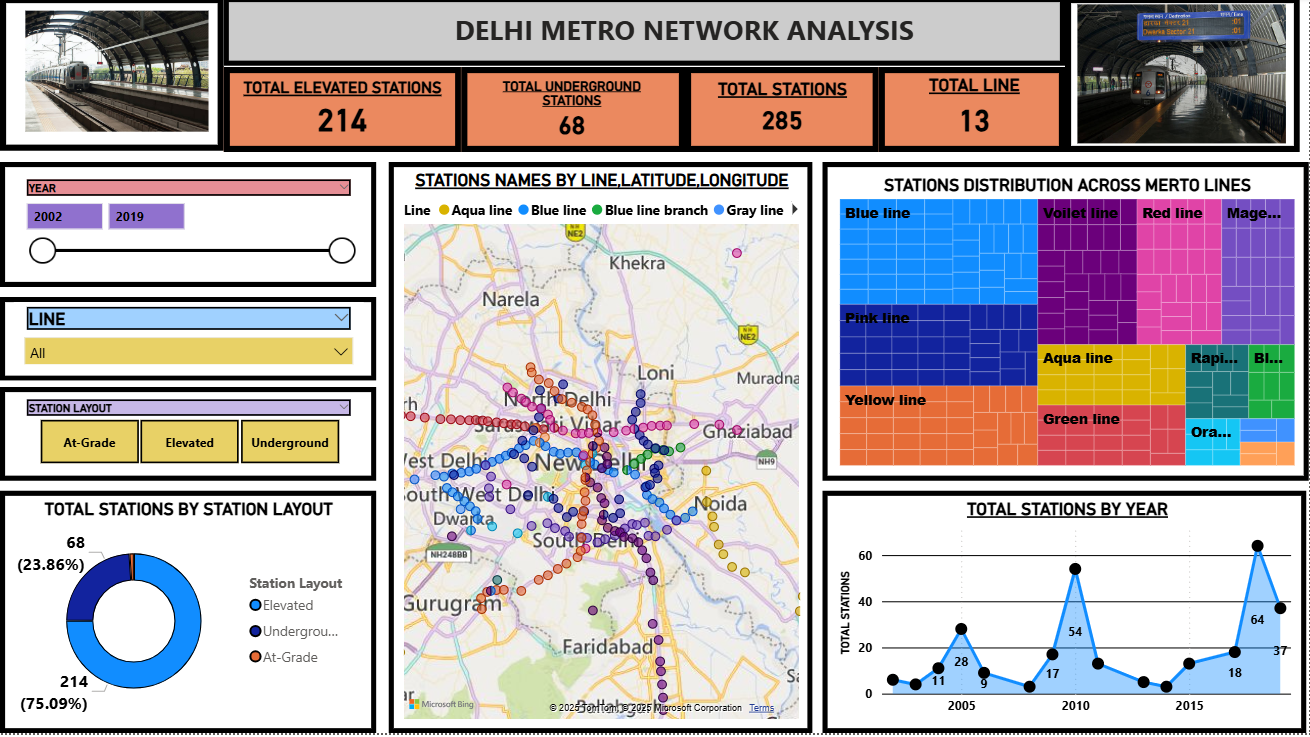

What the dashboard file says about the page in this screenshot:
{"tool":"powerbi","page":{"name":"DELHI_METRO_NETWORK_DASHBOARD","canvas":[1280,720],"ordinal":0},"visuals":[{"type":"shape","box":[380.3,161.4,414.5,558.8],"z":0},{"type":"shape","box":[0,483,368.1,237.2],"z":1000},{"type":"shape","box":[804.6,483,473.2,237.2],"z":2000},{"type":"shape","box":[804.6,161.4,475.7,311.8],"z":3000},{"type":"treemap","title":"STATIONS DISTRIBUTION ACROSS MERTO LINES","fields":{"Values":["delhi_metro delhi_metro.TOTAL STATION"],"Group":["delhi_metro delhi_metro.Line"],"Details":["delhi_metro delhi_metro.Station Name"]},"box":[816.9,173.6,454.9,289.8],"z":4000},{"type":"donutChart","title":"TOTAL STATIONS BY STATION LAYOUT","fields":{"Category":["delhi_metro delhi_metro.Station Layout"],"Y":["delhi_metro delhi_metro.TOTAL STATION"]},"box":[13.5,490.4,342.4,221.3],"z":5000},{"type":"stackedAreaChart","title":"TOTAL STATIONS BY YEAR","fields":{"Category":["delhi_metro delhi_metro.OPENING DATE.Variation.Date Hierarchy.Year"],"Y":["delhi_metro delhi_metro.TOTAL STATION"]},"box":[816.9,490.4,454.9,221.3],"z":6000},{"type":"shape","box":[0,161.4,368.1,122.3],"z":7000},{"type":"slicer","fields":{"Values":["delhi_metro delhi_metro.OPENING DATE.Variation.Date Hierarchy.Year"]},"box":[13.5,173.6,342.4,101.5],"z":8000},{"type":"shape","box":[0,381.5,368.1,91.7],"z":9000},{"type":"shape","box":[0,293.5,368.1,81.9],"z":10000},{"type":"slicer","fields":{"Values":["delhi_metro delhi_metro.Station Layout"]},"box":[13.5,388.9,342.4,74.6],"z":11000},{"type":"slicer","fields":{"Values":["delhi_metro delhi_metro.Line"]},"box":[13.5,298.4,342.4,61.1],"z":12000},{"type":"shape","box":[0,0,218.9,150.4],"z":13000},{"type":"shape","box":[218.9,68.5,232.3,83.2],"z":14000},{"type":"shape","box":[451.2,68.5,218.9,83.2],"z":15000},{"type":"shape","box":[670.1,68.5,189.5,83.2],"z":16000},{"type":"shape","box":[859.7,68.5,182.2,83.2],"z":17000},{"type":"shape","box":[1041.9,0,229.9,151.6],"z":18000},{"type":"shape","box":[218.9,0,823,67.3],"z":19000},{"type":"textbox","box":[368.1,8.6,602.9,51.4],"z":20000},{"type":"image","box":[1049.2,0,214,150.4],"z":21000},{"type":"image","box":[0,8.6,228.7,128.4],"z":22000},{"type":"card","title":"TOTAL STATIONS","fields":{"Values":["delhi_metro delhi_metro.TOTAL STATION"]},"box":[688.5,79.5,154.1,61.1],"z":23000},{"type":"card","title":"TOTAL ELEVATED STATIONS","fields":{"Values":["delhi_metro delhi_metro.TOTAL ELEVATED"]},"box":[229.9,79.5,210.3,61.1],"z":24000},{"type":"card","title":"TOTAL UNDERGROUND STATIONS","fields":{"Values":["delhi_metro delhi_metro.TOTAL UNDERGROUND"]},"box":[459.8,79.5,199.3,62.4],"z":25000},{"type":"card","title":"TOTAL LINE","fields":{"Values":["delhi_metro delhi_metro.TOTAL LINE"]},"box":[874.3,75.8,157.7,67.3],"z":26000},{"type":"map","title":"STATIONS NAMES BY LINE,LATITUDE,LONGITUDE","fields":{"X":["delhi_metro delhi_metro.Longitude"],"Y":["delhi_metro delhi_metro.Latitude"],"Series":["delhi_metro delhi_metro.Line"]},"box":[390.1,168.8,397.4,542.9],"z":27000}]}

Visuals, with their boxes in screenshot pixels (x1, y1, x2, y2), scaled from the page's 1280x720 canvas onto the 1310x737 screenshot:
shape: (x1=389, y1=165, x2=813, y2=736)
shape: (x1=0, y1=494, x2=377, y2=736)
shape: (x1=823, y1=494, x2=1308, y2=736)
shape: (x1=823, y1=165, x2=1309, y2=484)
"STATIONS DISTRIBUTION ACROSS MERTO LINES" treemap: (x1=836, y1=178, x2=1302, y2=474)
"TOTAL STATIONS BY STATION LAYOUT" donutChart: (x1=14, y1=502, x2=364, y2=729)
"TOTAL STATIONS BY YEAR" stackedAreaChart: (x1=836, y1=502, x2=1302, y2=729)
shape: (x1=0, y1=165, x2=377, y2=290)
slicer - delhi_metro delhi_metro.OPENING DATE.Variation.Date Hierarchy.Year: (x1=14, y1=178, x2=364, y2=282)
shape: (x1=0, y1=391, x2=377, y2=484)
shape: (x1=0, y1=300, x2=377, y2=384)
slicer - delhi_metro delhi_metro.Station Layout: (x1=14, y1=398, x2=364, y2=474)
slicer - delhi_metro delhi_metro.Line: (x1=14, y1=305, x2=364, y2=368)
shape: (x1=0, y1=0, x2=224, y2=154)
shape: (x1=224, y1=70, x2=462, y2=155)
shape: (x1=462, y1=70, x2=686, y2=155)
shape: (x1=686, y1=70, x2=880, y2=155)
shape: (x1=880, y1=70, x2=1066, y2=155)
shape: (x1=1066, y1=0, x2=1302, y2=155)
shape: (x1=224, y1=0, x2=1066, y2=69)
textbox: (x1=377, y1=9, x2=994, y2=61)
image: (x1=1074, y1=0, x2=1293, y2=154)
image: (x1=0, y1=9, x2=234, y2=140)
"TOTAL STATIONS" card: (x1=705, y1=81, x2=862, y2=144)
"TOTAL ELEVATED STATIONS" card: (x1=235, y1=81, x2=451, y2=144)
"TOTAL UNDERGROUND STATIONS" card: (x1=471, y1=81, x2=675, y2=145)
"TOTAL LINE" card: (x1=895, y1=78, x2=1056, y2=146)
"STATIONS NAMES BY LINE,LATITUDE,LONGITUDE" map: (x1=399, y1=173, x2=806, y2=729)
